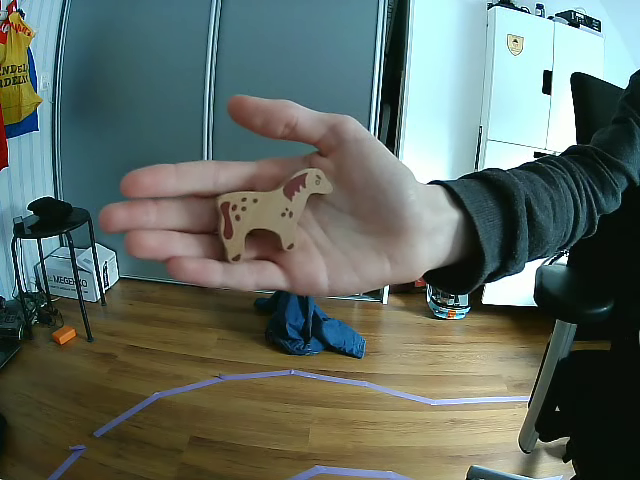paard: (217, 167, 332, 264)
